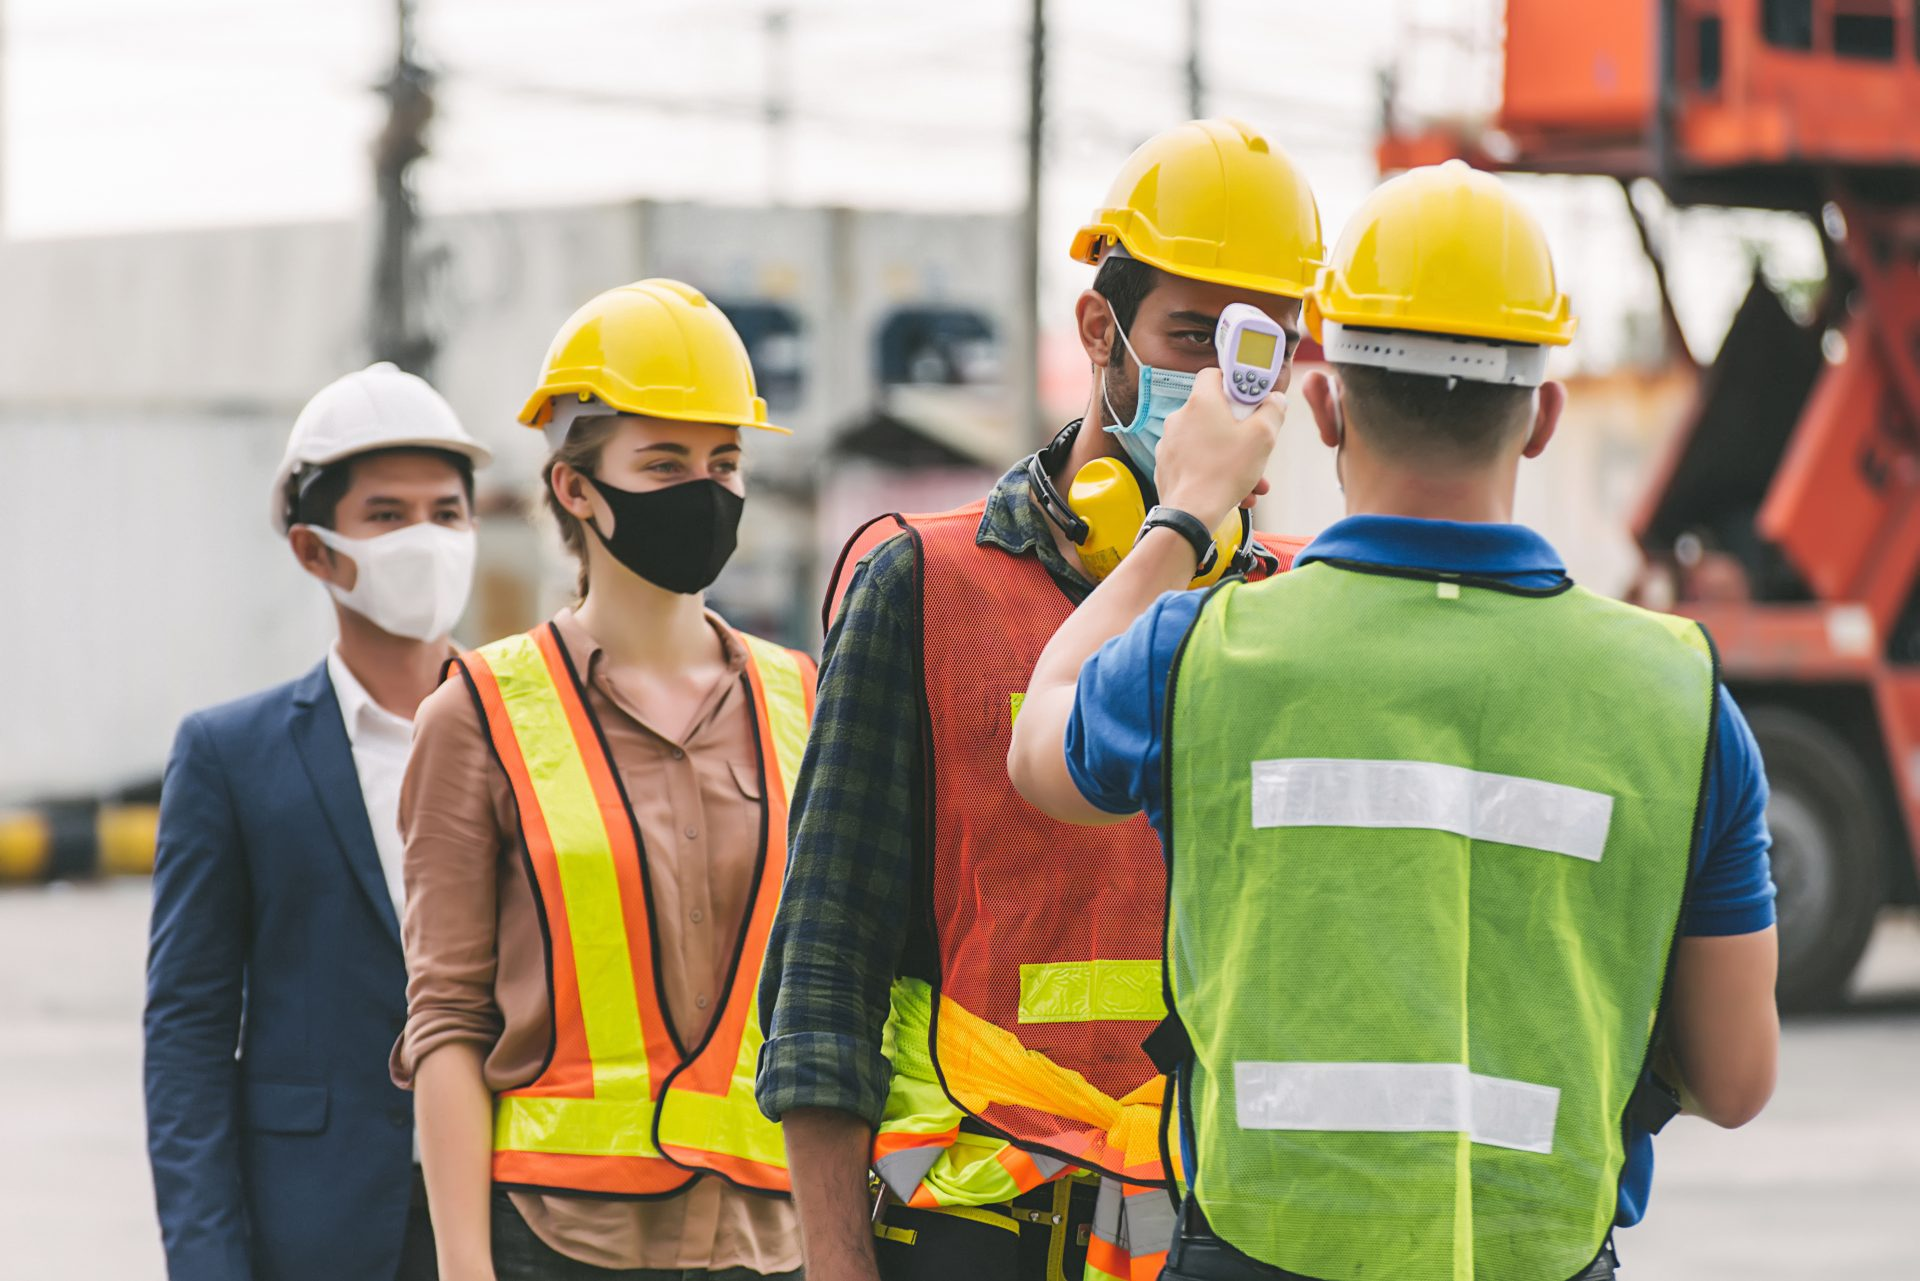Safety Helmet: (1057, 64, 1330, 538), (1317, 127, 1593, 553), (498, 246, 783, 653), (252, 329, 508, 683)
